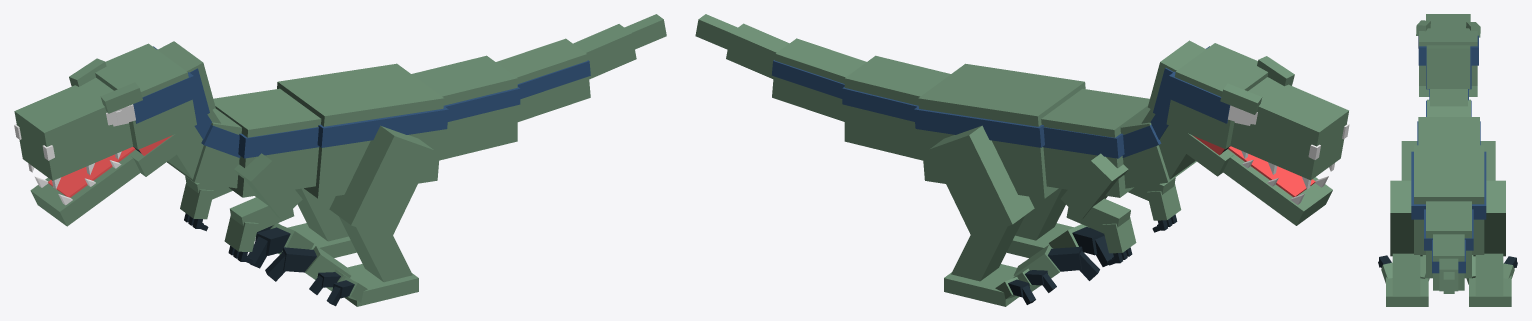
Rendered from lod_velociraptor.obj.
3 views of the same model, side by side, from view 1: azimuth 30°, elevation 25°; view 2: azimuth 150°, elevation 25°; view 3: azimuth 270°, elevation 25° (orthographic). The views are drawn at different scales.
Visible parts, largest first — view 1: lod_velociraptor; view 2: lod_velociraptor; view 3: lod_velociraptor.
Boxes of the visible parts, x1,y1,x2,y2 form: lod_velociraptor: (14,14,666,306); lod_velociraptor: (695,14,1349,306); lod_velociraptor: (1378,14,1517,306).
Bounding box in the file's own units: 12.48 × 4.8 × 3.2.
